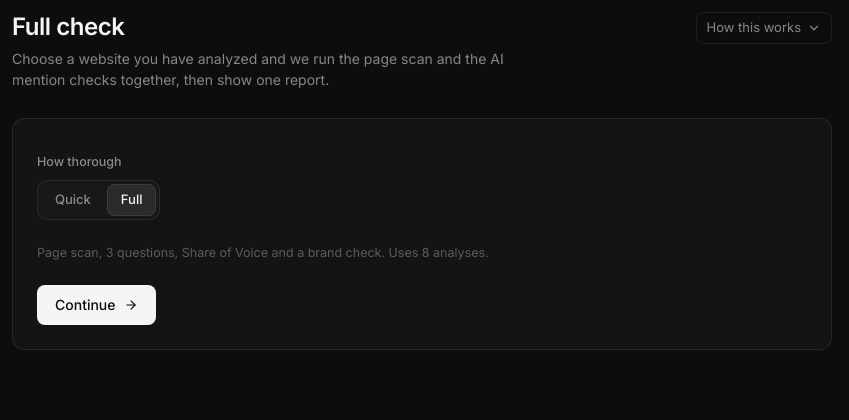
Full check flow › refuses a shared platform such as YouTube before looking for questions
Click the button "Continue".
click(96, 304)  # box x1=37 y1=284 x2=156 y2=324
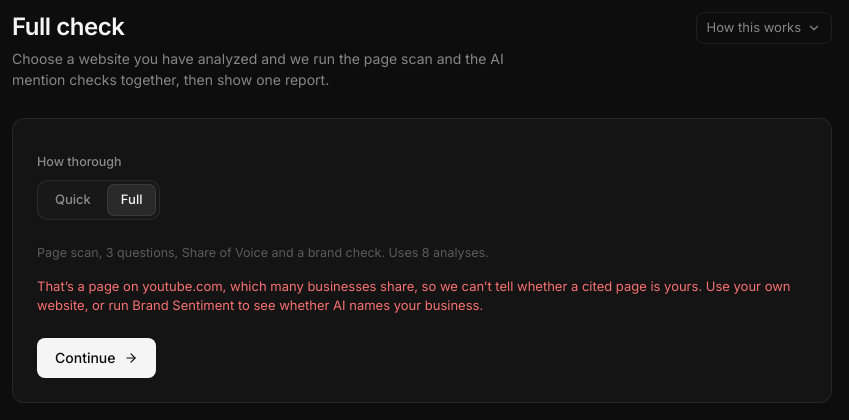
Check: the text "which many businesses share" is shown, box x1=37 y1=278 x2=790 y2=313
